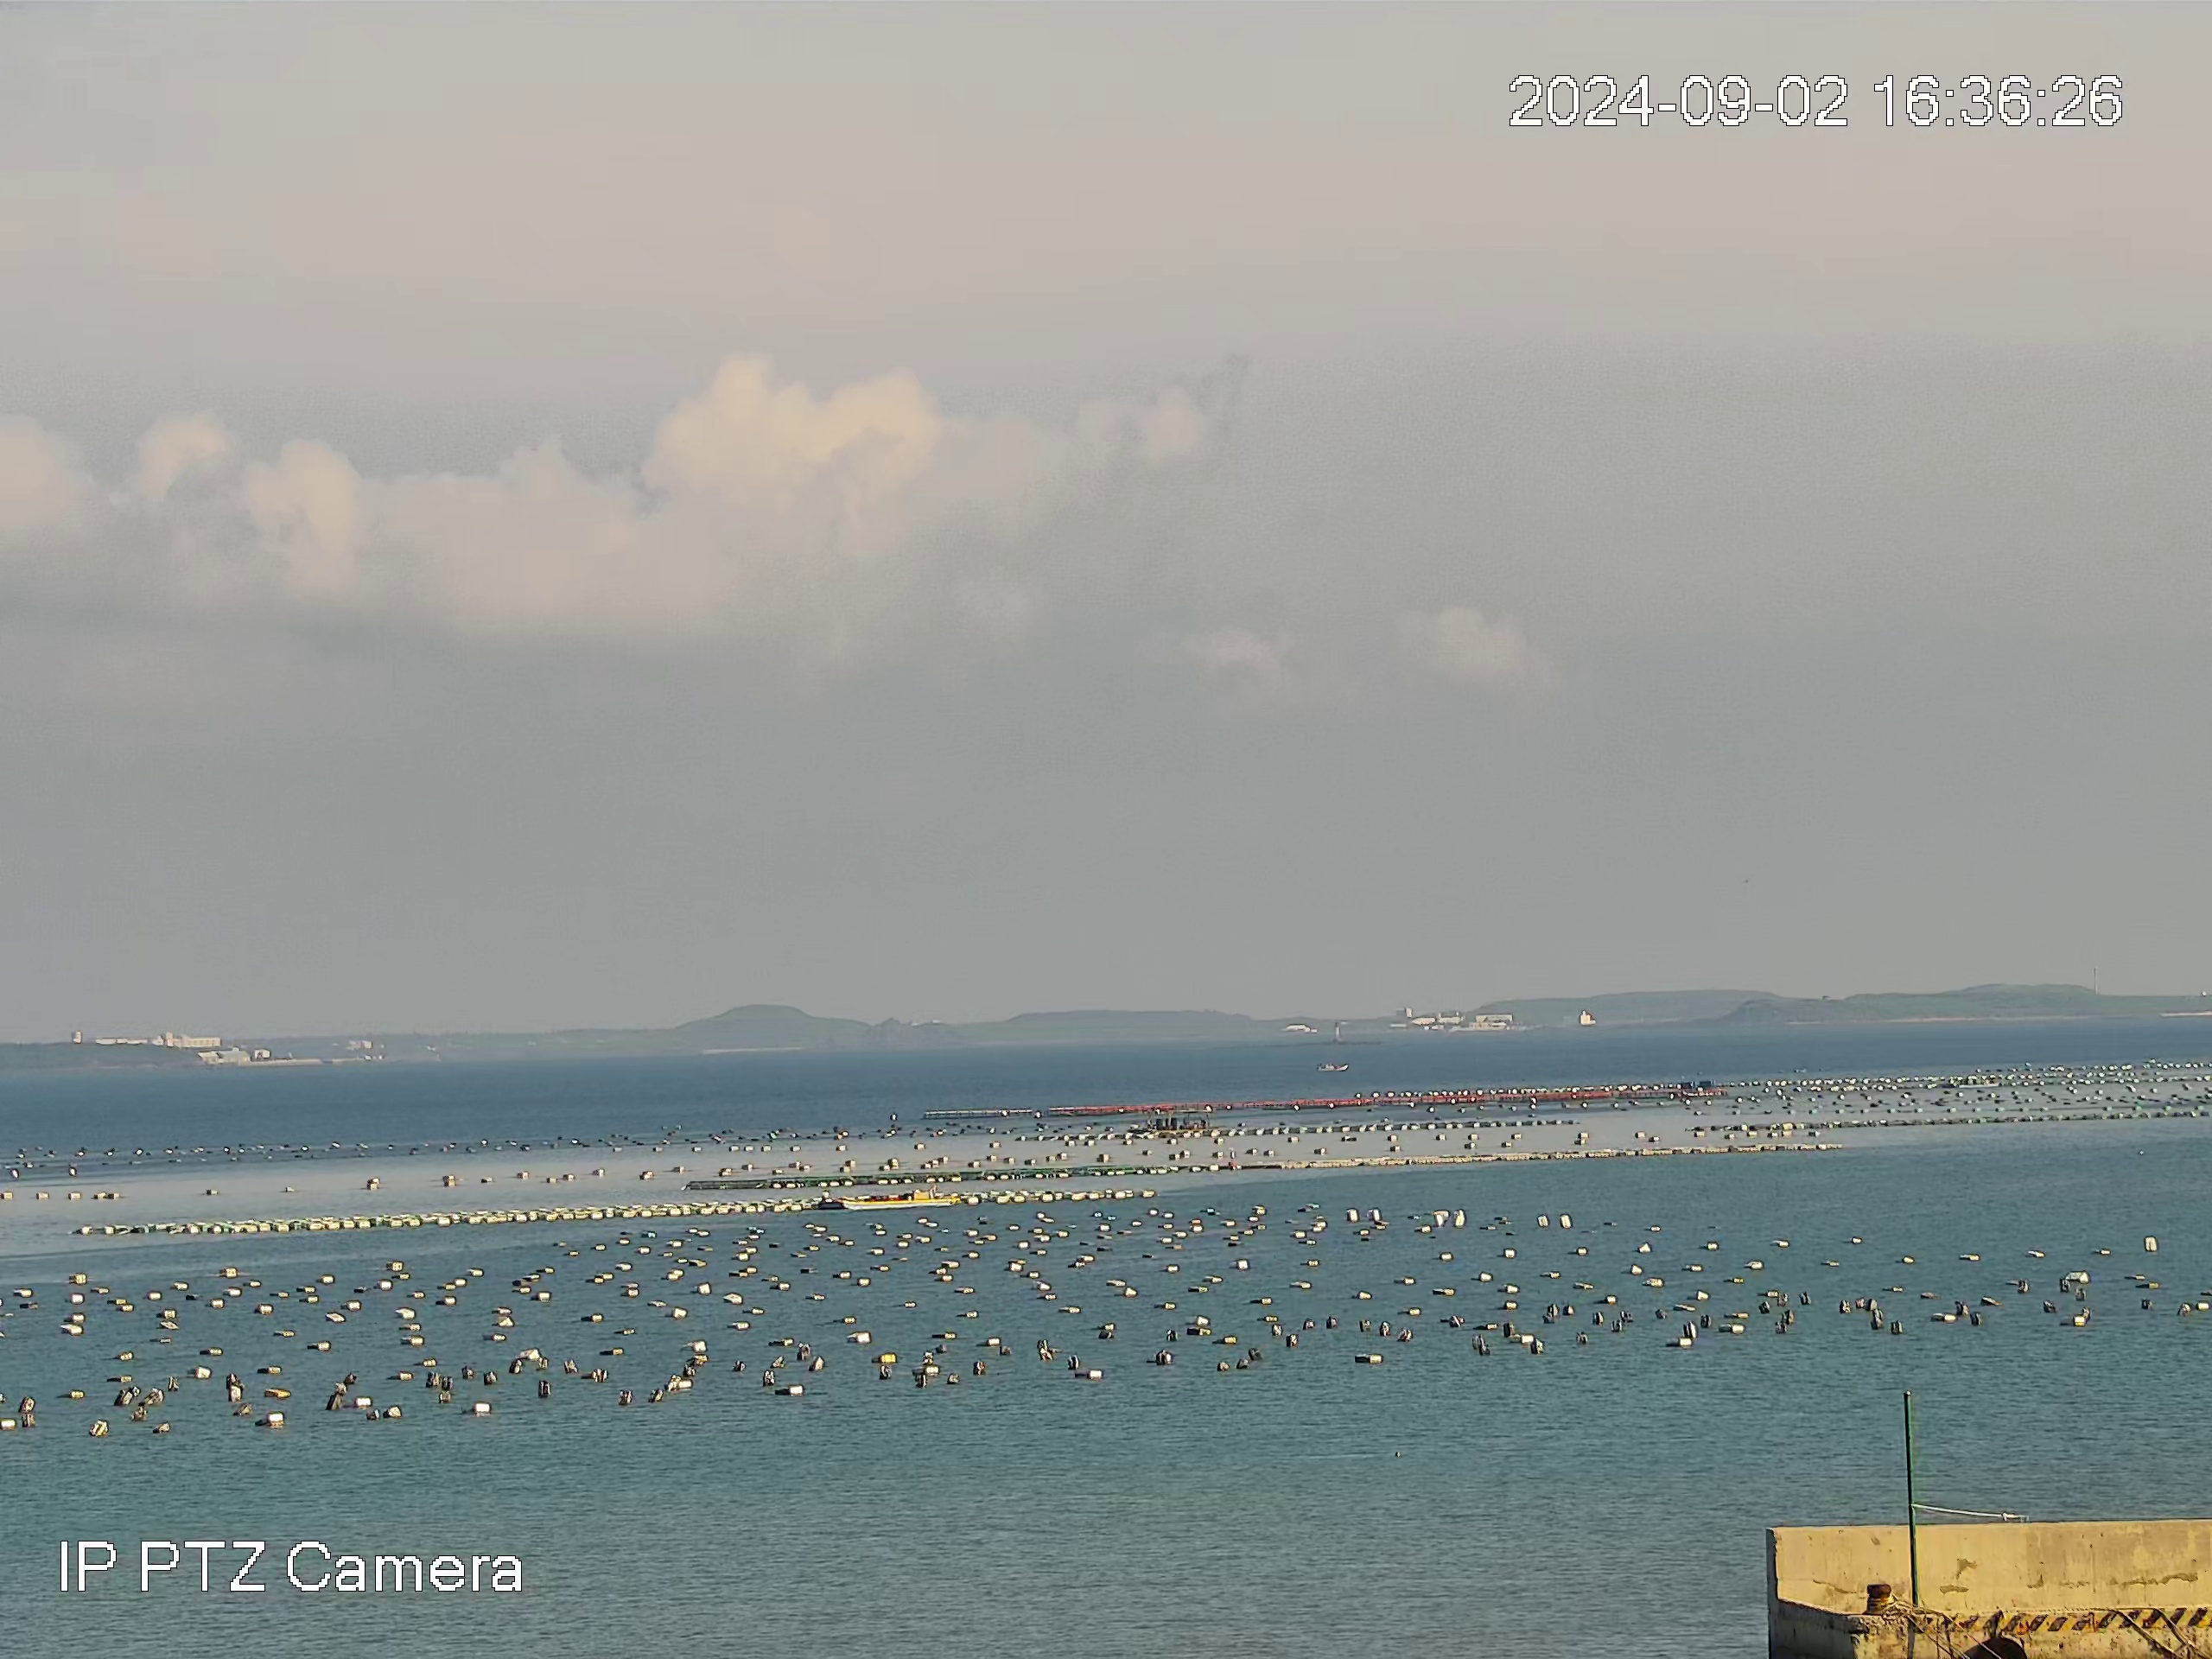boat: (840, 1182, 961, 1211), (1144, 1105, 1217, 1134), (1315, 1060, 1350, 1073)
